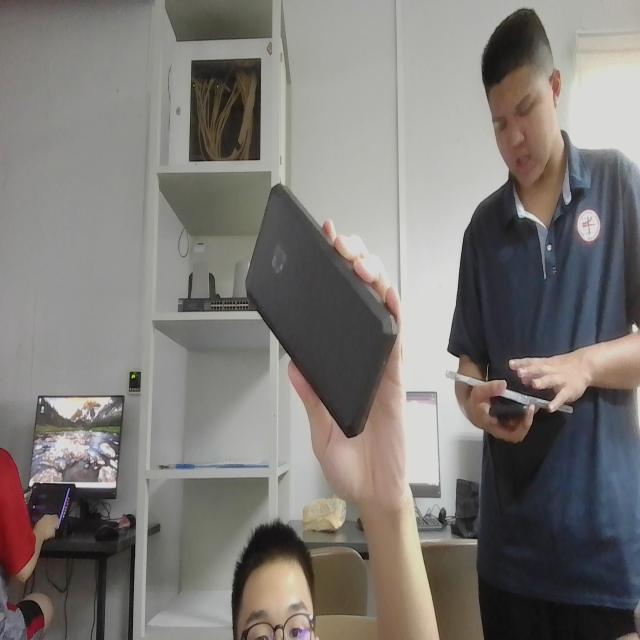power bank: (239, 177, 404, 447)
